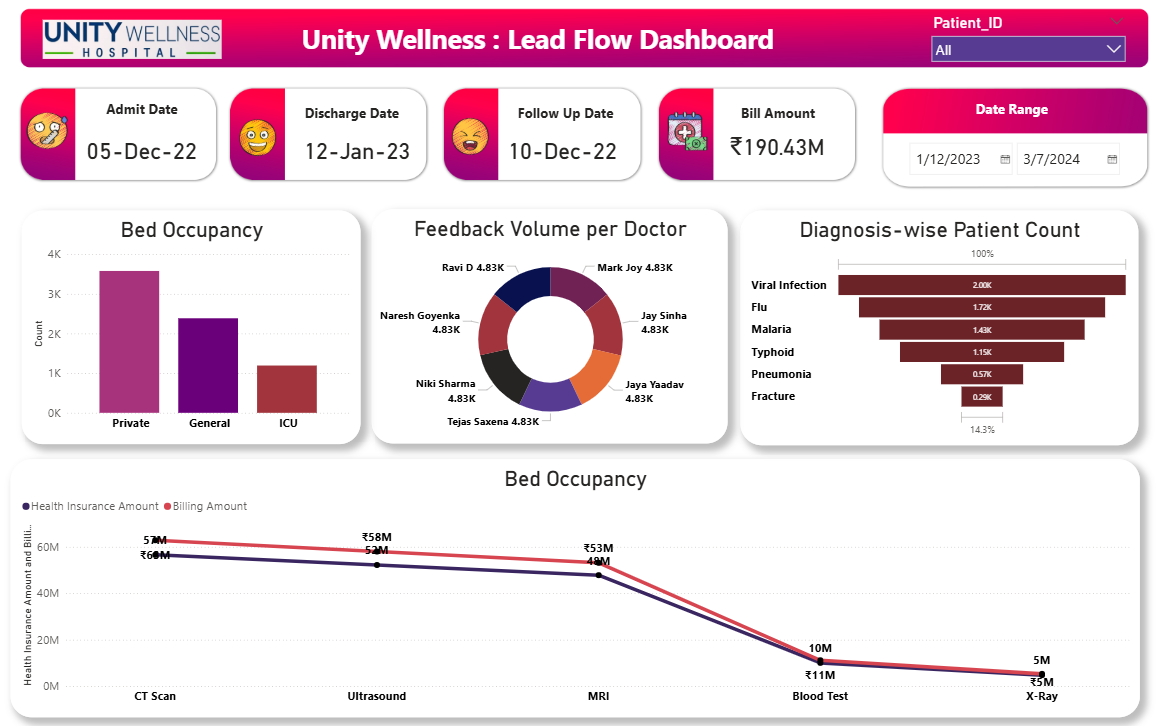

Layout of this report page (visuals, bound fields, positions):
{"tool":"powerbi","page":{"name":"Page 2","canvas":[1680,1050],"ordinal":0},"visuals":[{"type":"textbox","box":[359.8,34.1,831.3,73.9],"z":0},{"type":"image","box":[2636.7,100,623.3,150],"z":1000},{"type":"slicer","fields":{"Values":["Sheet1.Patient_ID"]},"box":[2400,373.3,793.3,420],"z":2000},{"type":"card","fields":{"Values":["Sheet1.Admit_Date"]},"box":[437.6,198.8,162.9,42.8],"z":3000},{"type":"card","fields":{"Values":["Sheet1.Discharge_Date"]},"box":[129.8,198.8,172.6,42.8],"z":4000},{"type":"card","fields":{"Values":["Sheet1.Followup Date"]},"box":[724.3,198.6,167.1,42.9],"z":5000},{"type":"textbox","box":[152.9,145.7,127.1,57.1],"z":6000},{"type":"textbox","box":[437.1,151.4,151.4,37.1],"z":7000},{"type":"textbox","box":[732.9,151.4,158.6,37.1],"z":8000},{"type":"textbox","box":[1035.7,151.4,151.4,37.1],"z":9000},{"type":"card","fields":{"Values":["Sheet1.Billing Amount"]},"box":[1031.4,194.3,158.6,42.9],"z":10000},{"type":"image","box":[50,157.1,68.6,74.3],"z":11000},{"type":"image","box":[348.6,172.9,62.9,62.9],"z":12000},{"type":"image","box":[640,171.4,77.1,62.9],"z":13000},{"type":"image","box":[951.4,158.6,65.7,71.4],"z":14000},{"type":"columnChart","title":"Bed Occupancy","fields":{"Category":["Sheet1.Bed_Occupancy"],"Y":["Sheet1.Bed_Occupancy"]},"box":[47.1,305.7,477.1,328.6],"z":15000},{"type":"donutChart","title":"Feedback Volume per Doctor","fields":{"Category":["Sheet1.Doctor"],"Y":["Sheet1.Feedback"]},"box":[540.2,305.2,501,329.5],"z":16000},{"type":"funnel","title":"Diagnosis-wise Patient Count","fields":{"Category":["Sheet1.Diagnosis"],"Y":["Sheet1.Diagnosis"]},"box":[1060,305.7,560,330],"z":17000},{"type":"lineChart","title":"Bed Occupancy","fields":{"Y":["Sheet1.Health Insurance Amount","Sheet1.Billing Amount"],"Category":["Sheet1.Test"]},"box":[31.1,656.3,1589.5,363.3],"z":18000},{"type":"slicer","fields":{"Values":["Sheet1.Admit_Date"]},"box":[1284.3,201.2,360.6,68.9],"z":19000},{"type":"slicer","fields":{"Values":["Sheet1.Patient_ID"]},"box":[1317.1,24.3,292.9,82.9],"z":20000},{"type":"textbox","box":[1365.7,145.7,151.4,37.1],"z":21000},{"type":"image","box":[47.3,0,240.5,125],"z":22000}]}

Visuals, with their boxes in screenshot pixels (x1, y1, x2, y2), scaled from the page's 1680x1050 canvas onto the 1175x726 screenshot:
textbox: detection(252, 24, 833, 75)
card - Sheet1.Admit_Date: detection(306, 137, 420, 167)
card - Sheet1.Discharge_Date: detection(91, 137, 211, 167)
card - Sheet1.Followup Date: detection(507, 137, 623, 167)
textbox: detection(107, 101, 196, 140)
textbox: detection(306, 105, 412, 130)
textbox: detection(513, 105, 624, 130)
textbox: detection(724, 105, 830, 130)
card - Sheet1.Billing Amount: detection(721, 134, 832, 164)
image: detection(35, 109, 83, 160)
image: detection(244, 120, 288, 163)
image: detection(448, 119, 502, 162)
image: detection(665, 110, 711, 159)
"Bed Occupancy" columnChart: detection(33, 211, 367, 439)
"Feedback Volume per Doctor" donutChart: detection(378, 211, 728, 439)
"Diagnosis-wise Patient Count" funnel: detection(741, 211, 1133, 440)
"Bed Occupancy" lineChart: detection(22, 454, 1133, 705)
slicer - Sheet1.Admit_Date: detection(898, 139, 1150, 187)
slicer - Sheet1.Patient_ID: detection(921, 17, 1126, 74)
textbox: detection(955, 101, 1061, 126)
image: detection(33, 0, 201, 86)
